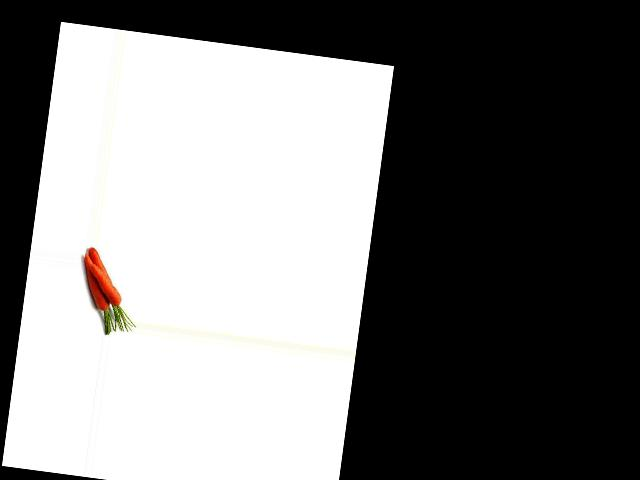carrot: (84, 247, 116, 286)
